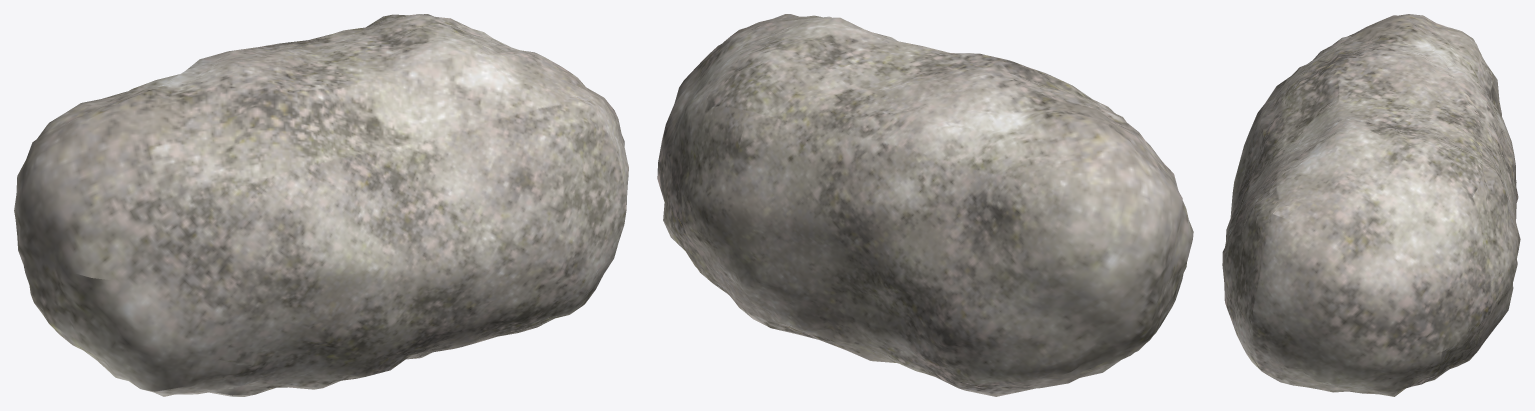
Rendered from rock.glb.
3 renders of one model, left to right at view 1: azimuth 30°, elevation 25°; view 2: azimuth 150°, elevation 25°; view 3: azimuth 270°, elevation 25°, orthographic. The views are drawn at different scales.
Parts seen in each view (by area): view 1: rock; view 2: rock; view 3: rock.
Part boxes in pixels (left/top/right/bottom): rock: left=14, top=14, right=628, bottom=396; rock: left=657, top=14, right=1193, bottom=396; rock: left=1222, top=14, right=1520, bottom=396.
Size of the model in its own units: 1.88 by 1.01 by 1.05.
1 material, 1 textured.
